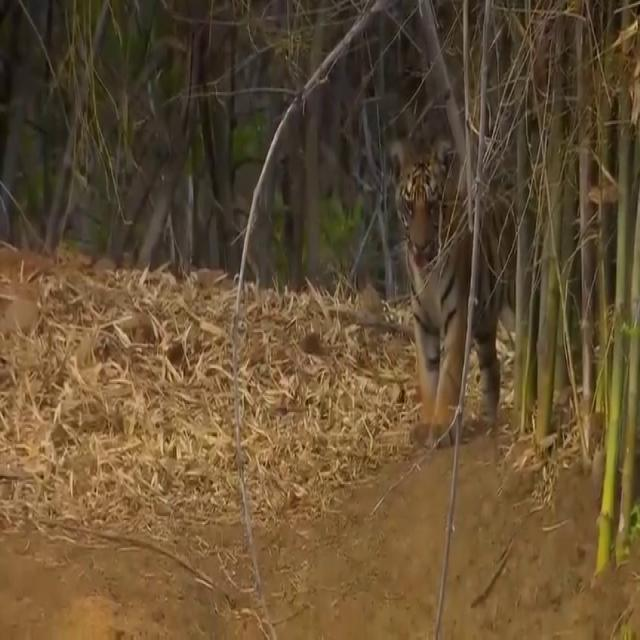tiger: (387, 133, 519, 452)
